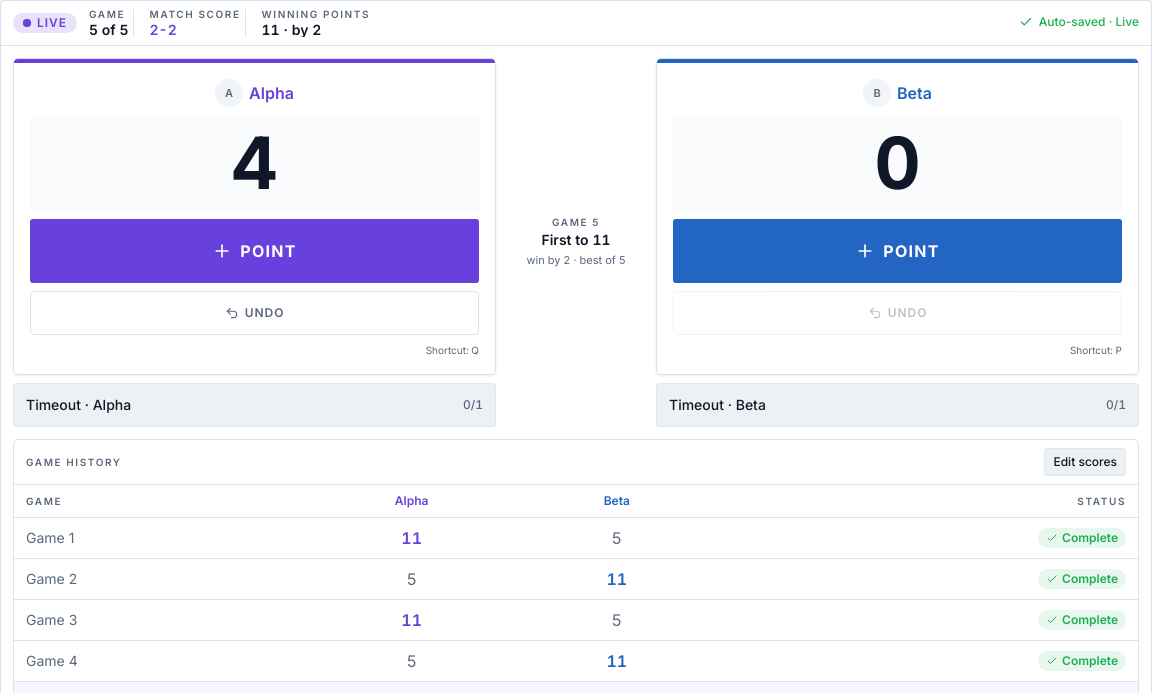
Test: TTConsole › prompts the deciding-game switch when a side first reaches 5
Click the button with test id "point-home".
click(254, 251)  # box [30,219,479,283]
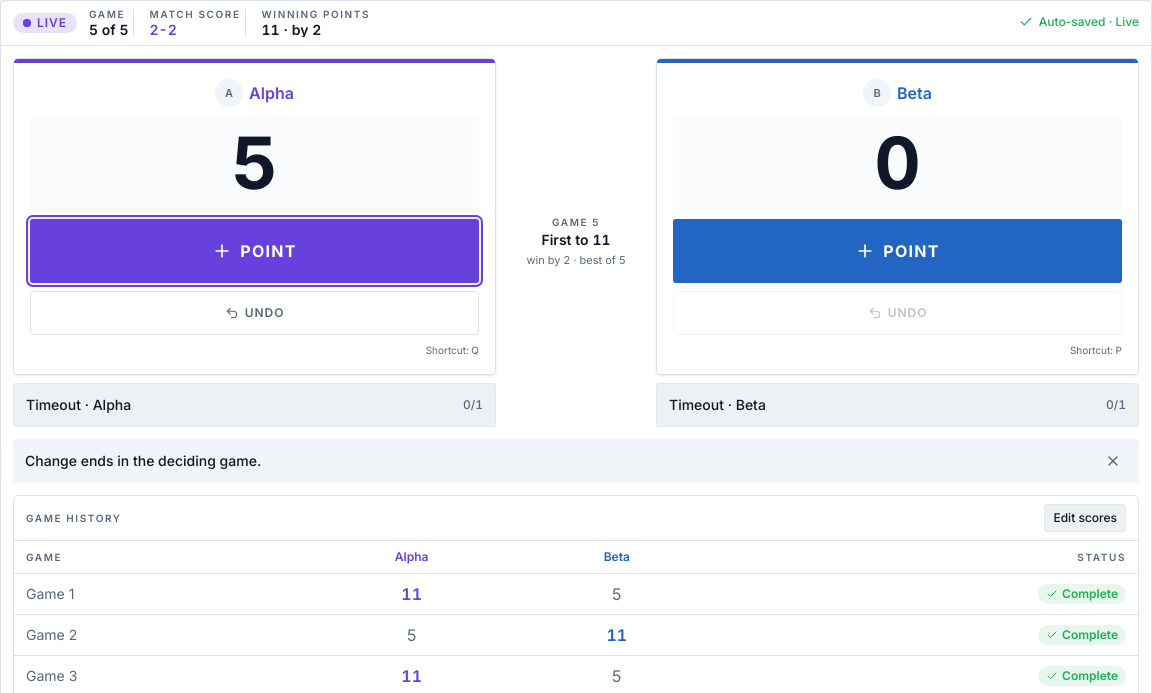
expect the message with test id "change-ends" shows "Change ends": met, box [25,452,261,469]
